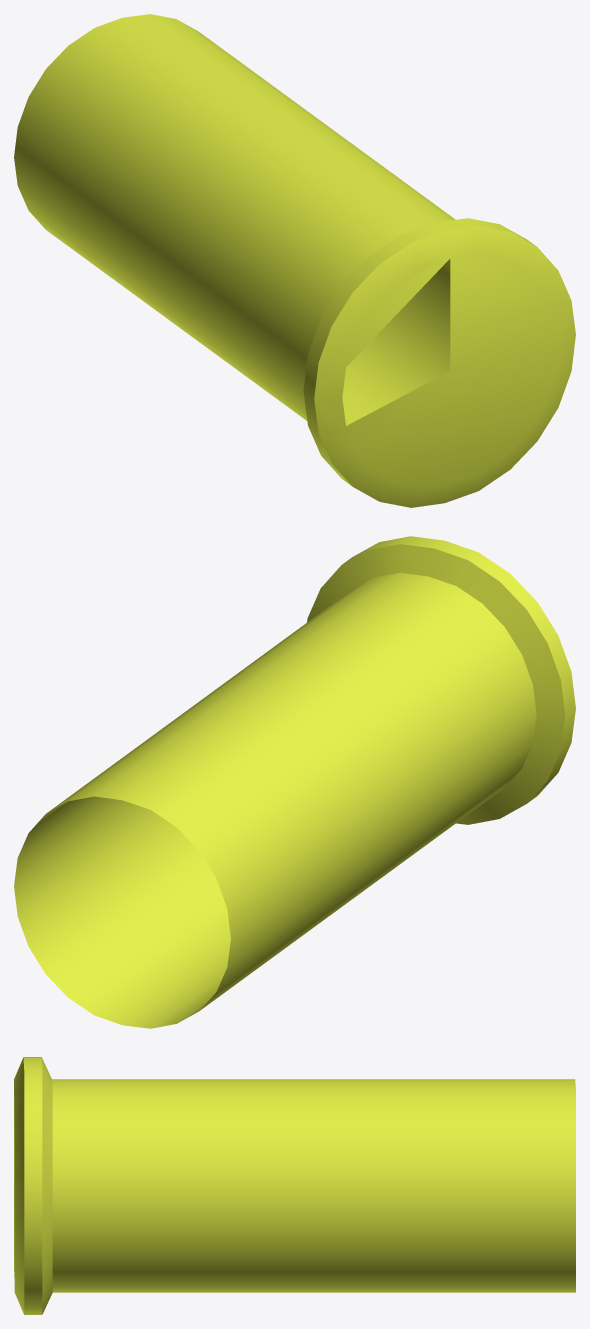
Rendered from 22_lr_case.dae.
3 renders of one model, top to bottom at view 1: azimuth 30°, elevation 25°; view 2: azimuth 150°, elevation 25°; view 3: azimuth 270°, elevation 25°, orthographic. The views are drawn at different scales.
Visible parts, largest first — view 1: skpFD5C; view 2: skpFD5C; view 3: skpFD5C.
Part boxes in pixels (x1,y1,x2,y2): skpFD5C: (14, 14, 575, 507); skpFD5C: (14, 536, 575, 1028); skpFD5C: (14, 1057, 575, 1314).
Size of the model in its own units: 0.272 by 0.5907 by 0.2704.
